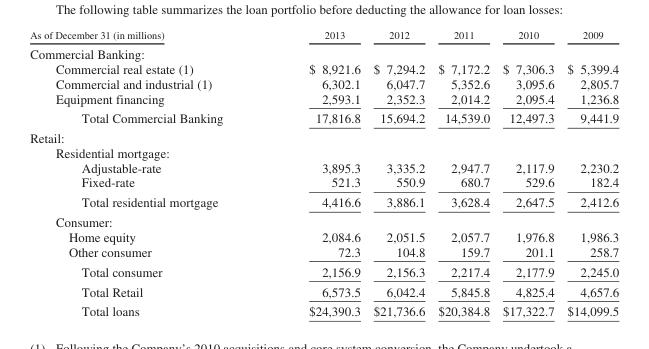table: (29, 29, 618, 318)
table column: (29, 29, 265, 318), (265, 29, 366, 318), (430, 29, 495, 318), (495, 29, 560, 318), (366, 29, 430, 318), (560, 29, 618, 318)
table column header: (29, 29, 618, 43)
table projected row header: (29, 43, 618, 61), (29, 127, 618, 145), (29, 211, 618, 229), (29, 145, 618, 159)
table row: (29, 261, 618, 281), (29, 281, 618, 301), (29, 108, 618, 127), (29, 192, 618, 211), (29, 43, 618, 61), (29, 90, 618, 108), (29, 127, 618, 145), (29, 174, 618, 192), (29, 211, 618, 229), (29, 243, 618, 261), (29, 301, 618, 318), (29, 61, 618, 76), (29, 159, 618, 174), (29, 29, 618, 43), (29, 76, 618, 90), (29, 145, 618, 159), (29, 229, 618, 243)
